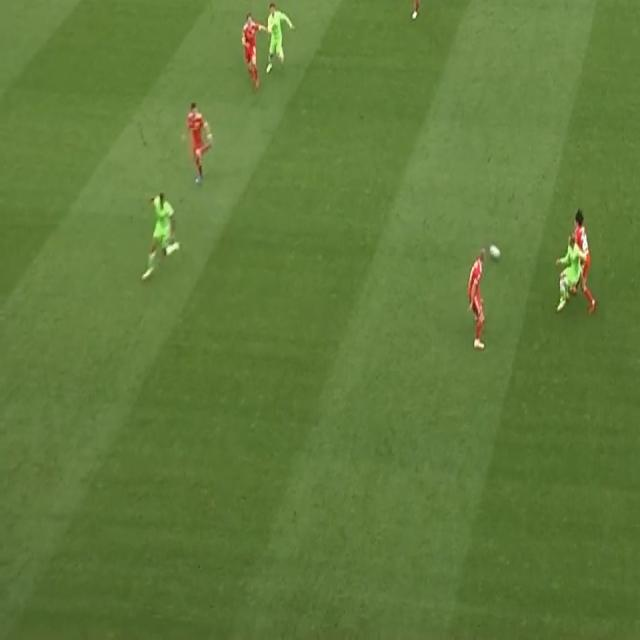ball: (489, 244, 502, 263)
